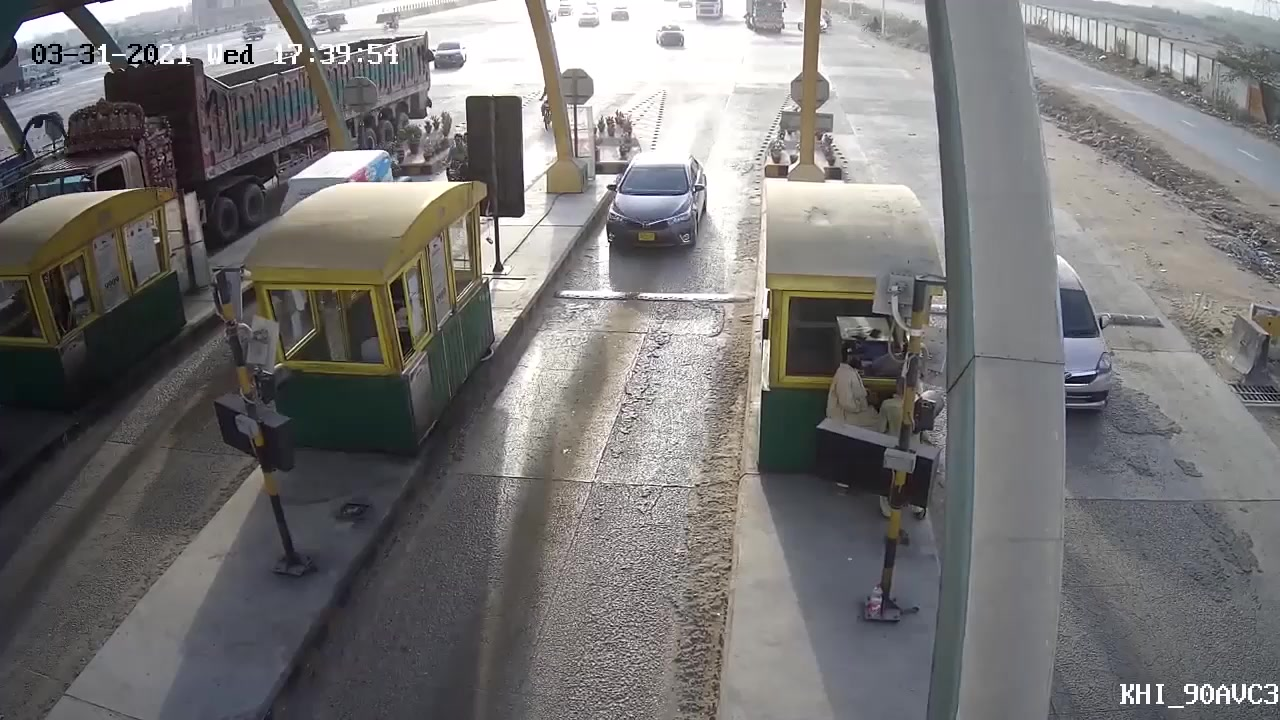F1: (603, 153, 708, 262)
